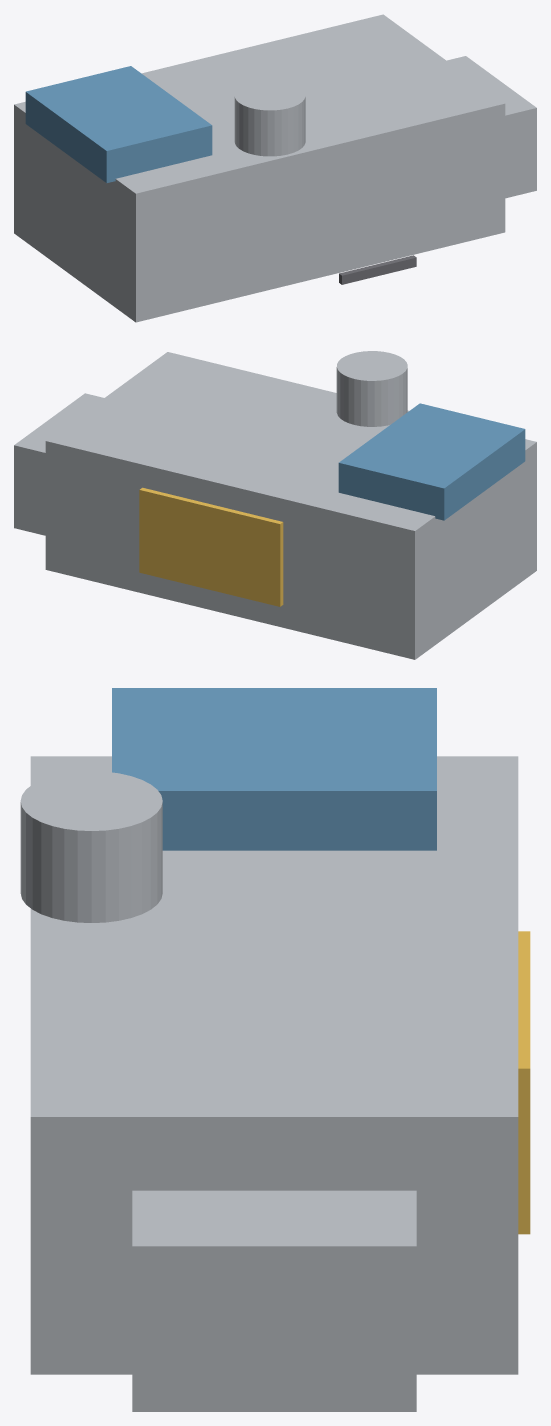
The model's file is RoofAhu_VAV_Single.fbx.
3 views of the same model, one above another, from view 1: azimuth 30°, elevation 25°; view 2: azimuth 150°, elevation 25°; view 3: azimuth 270°, elevation 25° (orthographic). The views are drawn at different scales.
Parts seen in each view (by area): view 1: AHU_VAV_Cabinet, AHU_VAV_OAHood, AHU_VAV_ReliefCowl, AHU_VAV_Discharge, AHU_VAV_Blade_1, AHU_VAV_Blade_2; view 2: AHU_VAV_Cabinet, AHU_VAV_OAHood, AHU_VAV_FilterDoor, AHU_VAV_ReliefCowl, AHU_VAV_Discharge; view 3: AHU_VAV_Cabinet, AHU_VAV_Discharge, AHU_VAV_OAHood, AHU_VAV_ReliefCowl, AHU_VAV_FilterDoor.
Boxes of the visible parts, bbox=[...] form: AHU_VAV_Cabinet: bbox=[14, 14, 505, 322]; AHU_VAV_OAHood: bbox=[25, 66, 212, 182]; AHU_VAV_ReliefCowl: bbox=[234, 80, 305, 156]; AHU_VAV_Discharge: bbox=[447, 56, 536, 198]; AHU_VAV_Blade_1: bbox=[370, 255, 416, 277]; AHU_VAV_Blade_2: bbox=[339, 266, 372, 284]; AHU_VAV_Cabinet: bbox=[45, 352, 536, 659]; AHU_VAV_OAHood: bbox=[338, 403, 525, 520]; AHU_VAV_FilterDoor: bbox=[139, 487, 283, 606]; AHU_VAV_ReliefCowl: bbox=[336, 351, 407, 426]; AHU_VAV_Discharge: bbox=[14, 393, 103, 535]; AHU_VAV_Cabinet: bbox=[30, 756, 518, 1374]; AHU_VAV_Discharge: bbox=[132, 1190, 416, 1411]; AHU_VAV_OAHood: bbox=[112, 688, 436, 850]; AHU_VAV_ReliefCowl: bbox=[20, 771, 162, 922]; AHU_VAV_FilterDoor: bbox=[518, 931, 530, 1234].
Bounding box in the file's own units: 4.95 × 2.3 × 2.51.
